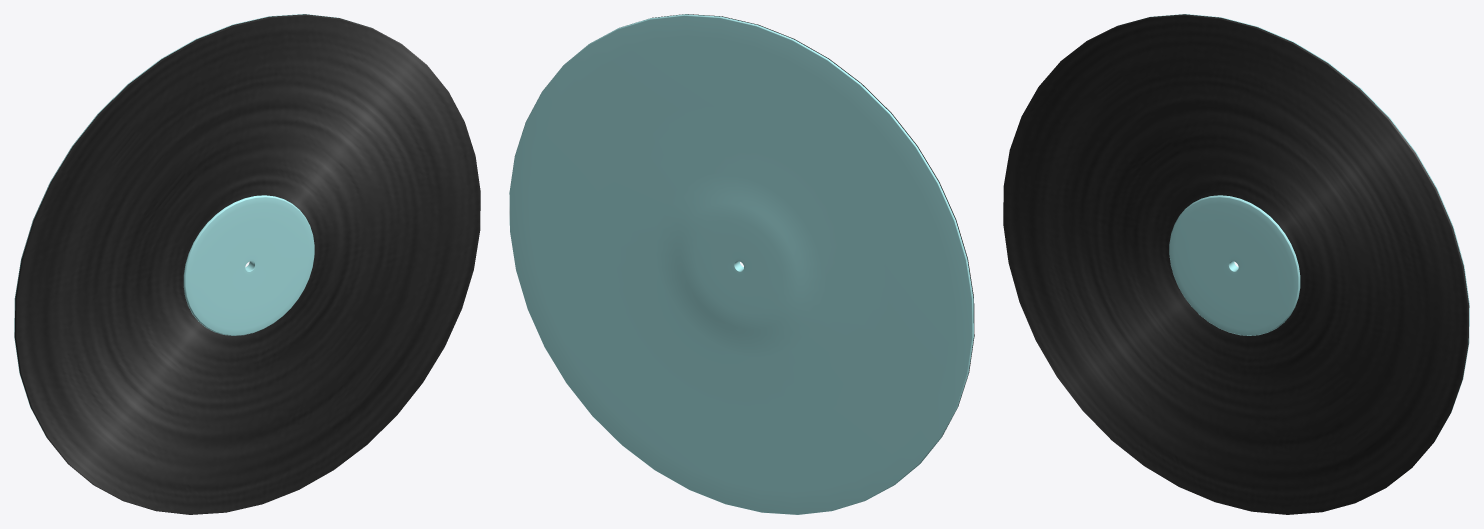
The model's file is Vinyl_S1.fbx.
3 views of the same model, side by side, from view 1: azimuth 30°, elevation 25°; view 2: azimuth 150°, elevation 25°; view 3: azimuth 330°, elevation 25° (orthographic).
Visible parts, largest first — view 1: Vinyl_S_1; view 2: Vinyl_S_1; view 3: Vinyl_S_1.
Part boxes in pixels (<box>): Vinyl_S_1: <box>14,14,480,514</box>; Vinyl_S_1: <box>509,14,974,514</box>; Vinyl_S_1: <box>1003,14,1469,514</box>.
Bounding box in the file's own units: 2.53 × 0.0551 × 2.53.
Materials: 2 (1 with a texture image).
